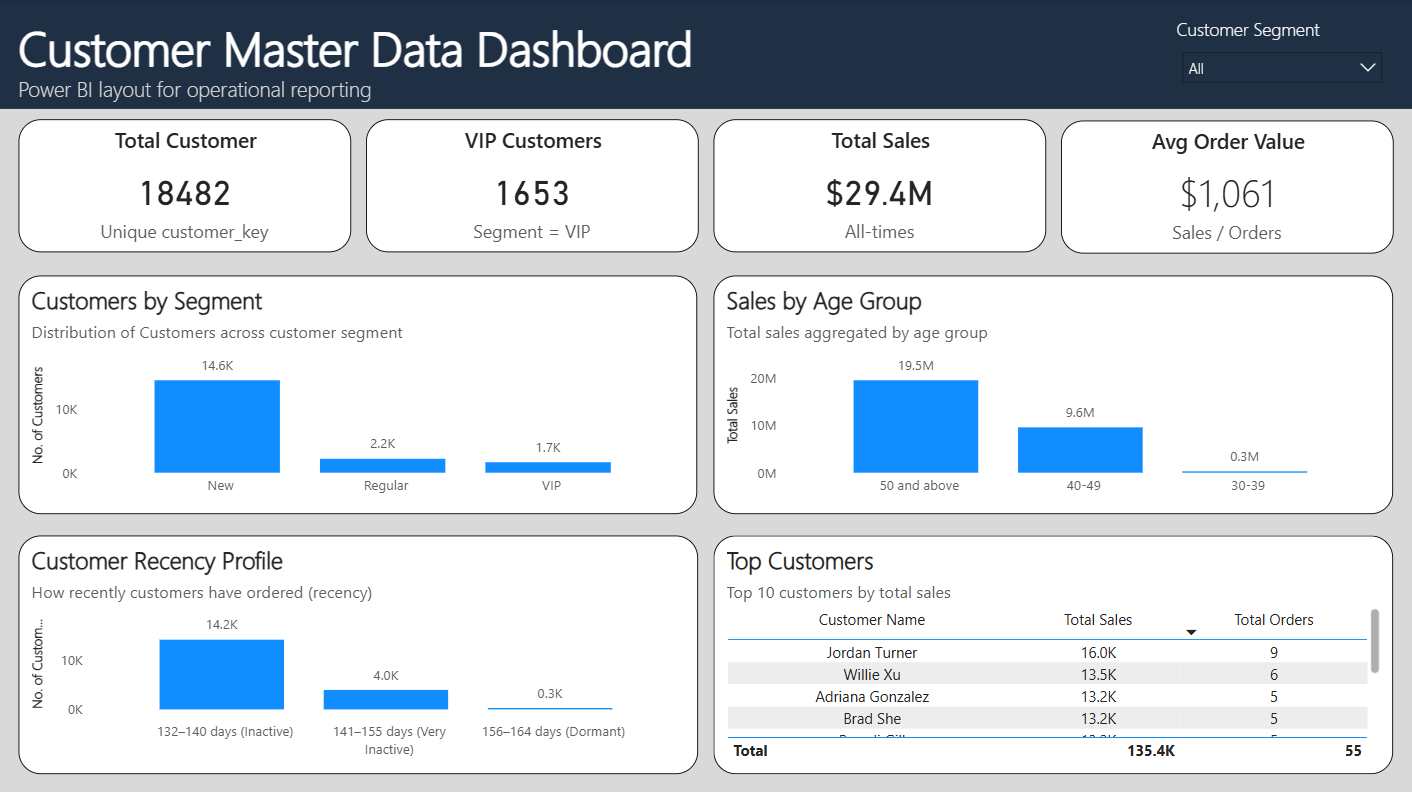

The page's visual inventory and layout, read from the dashboard file:
{"tool":"powerbi","page":{"name":"Customer Master Data","canvas":[1280,720],"ordinal":0},"visuals":[{"type":"shape","box":[0,0,1280,100],"z":0},{"type":"card","title":"Total Customer","fields":{"Values":["report_customers.Total Customers"]},"box":[20,109.6,300,120],"z":1000},{"type":"card","title":"VIP Customers","fields":{"Values":["report_customers.VIP Customers"]},"box":[333.3,109.6,300,120],"z":2000},{"type":"card","title":"Avg Order Value","fields":{"Values":["report_customers.Avg Order Value"]},"box":[960,110,300,120],"z":3000},{"type":"card","title":"Total Sales","fields":{"Values":["report_customers.Total Sales"]},"box":[646.7,109.6,300,120],"z":4000},{"type":"textbox","box":[0,64.4,1280,34.4],"z":5000},{"type":"textbox","box":[0,10,1280,70],"z":6000},{"type":"slicer","title":"Customer Segment","fields":{"Values":["report_customers.customer_segment"]},"box":[1060,17,200,66],"z":7000},{"type":"clusteredColumnChart","title":"Customers by Segment","fields":{"Category":["report_customers.customer_segment"],"Y":["Count(report_customers.customer_key)"]},"box":[20,250,612,215],"z":8000},{"type":"clusteredColumnChart","title":"Sales by Age Group","fields":{"Category":["report_customers.age_group"],"Y":["Sum(report_customers.total_sales)"]},"box":[647,250,612.9,215],"z":9000},{"type":"clusteredColumnChart","title":"Customer Recency Profile","fields":{"Y":["Count(report_customers.customer_key)"],"Category":["report_customers.Recency Bucket"]},"box":[20,485,612.9,215],"z":10000},{"type":"tableEx","title":"Top Customers","fields":{"Values":["report_customers.customer_name","Sum(report_customers.total_sales)","Sum(report_customers.total_orders)"]},"box":[647.1,485,612.9,215],"z":11000}]}

Visuals, with their boxes in screenshot pixels (x1, y1, x2, y2), scaled from the page's 1280x720 canvas onto the 1412x792 screenshot:
shape: bbox(0, 0, 1411, 110)
"Total Customer" card: bbox(22, 121, 353, 253)
"VIP Customers" card: bbox(368, 121, 699, 253)
"Avg Order Value" card: bbox(1059, 121, 1390, 253)
"Total Sales" card: bbox(713, 121, 1044, 253)
textbox: bbox(0, 71, 1411, 109)
textbox: bbox(0, 11, 1411, 88)
"Customer Segment" slicer: bbox(1169, 19, 1390, 91)
"Customers by Segment" clusteredColumnChart: bbox(22, 275, 697, 512)
"Sales by Age Group" clusteredColumnChart: bbox(714, 275, 1390, 512)
"Customer Recency Profile" clusteredColumnChart: bbox(22, 534, 698, 770)
"Top Customers" tableEx: bbox(714, 534, 1390, 770)
